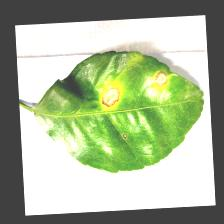canker: (87, 62, 184, 122)
